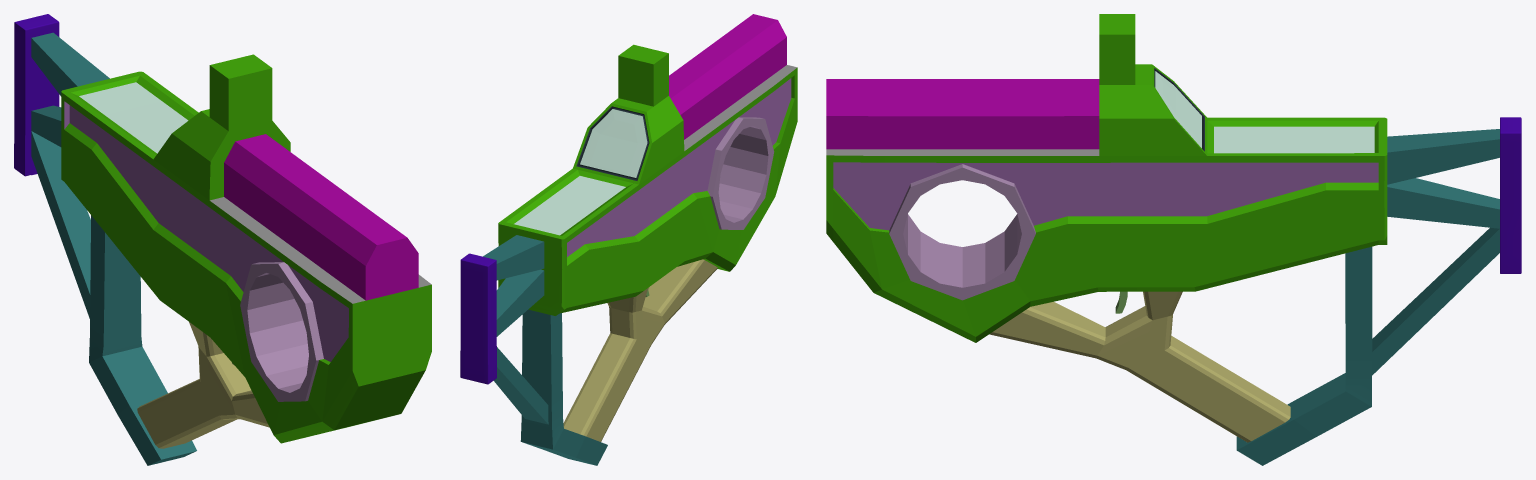
The model's file is rifleStockTest.fbx.
3 renders of one model, left to right at view 1: azimuth 30°, elevation 25°; view 2: azimuth 150°, elevation 25°; view 3: azimuth 270°, elevation 25°, orthographic. The views are drawn at different scales.
Parts seen in each view (by area): view 1: stock2; view 2: stock2; view 3: stock2.
Part boxes in pixels (x1=…): stock2: x1=14, y1=14, x2=431, y2=465; stock2: x1=460, y1=14, x2=797, y2=465; stock2: x1=826, y1=14, x2=1521, y2=465.
Bounding box in the file's own units: 0.4566 × 2.27 × 3.3.
